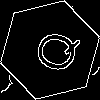Q: (25, 25, 82, 77)
